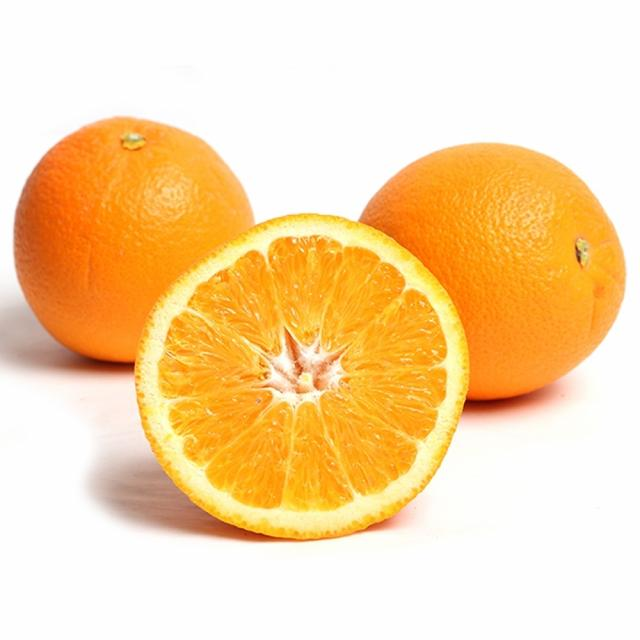orange: (129, 207, 471, 543), (356, 139, 630, 413), (11, 110, 256, 373)
